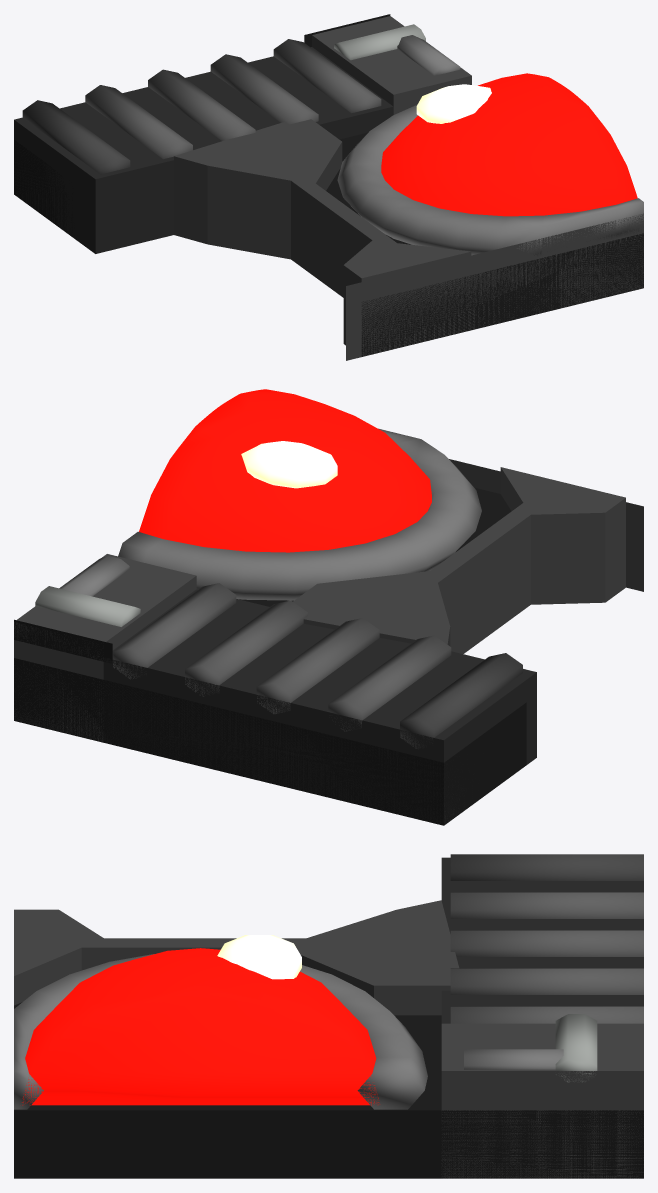
Rendered from newshr-197.glb.
3 views of the same model, one above another, from view 1: azimuth 30°, elevation 25°; view 2: azimuth 150°, elevation 25°; view 3: azimuth 270°, elevation 25° (orthographic). The views are drawn at different scales.
Visible parts, largest first — view 1: newshr-197; view 2: newshr-197; view 3: newshr-197.
Part boxes in pixels (x1,y1,x2,y2): newshr-197: [14, 14, 643, 360]; newshr-197: [14, 389, 643, 825]; newshr-197: [14, 854, 643, 1178].
Size of the model in its own units: 2 by 0.74 by 2.33.
